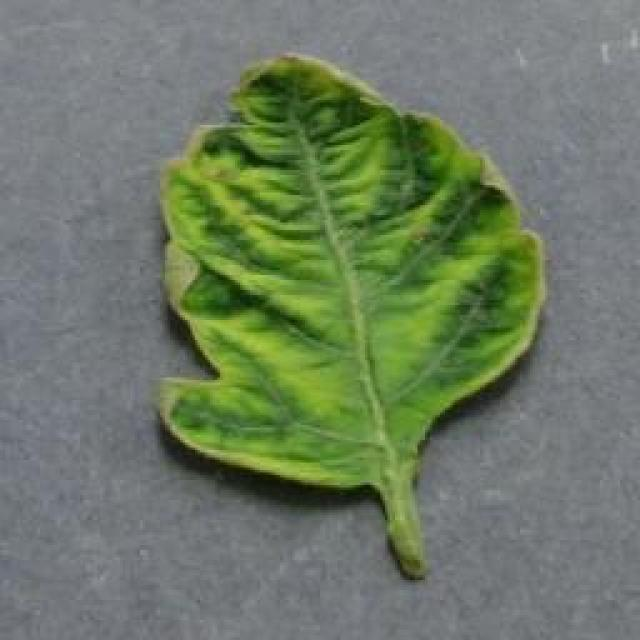Tomato yellow virus leaf: (152, 41, 552, 491)
